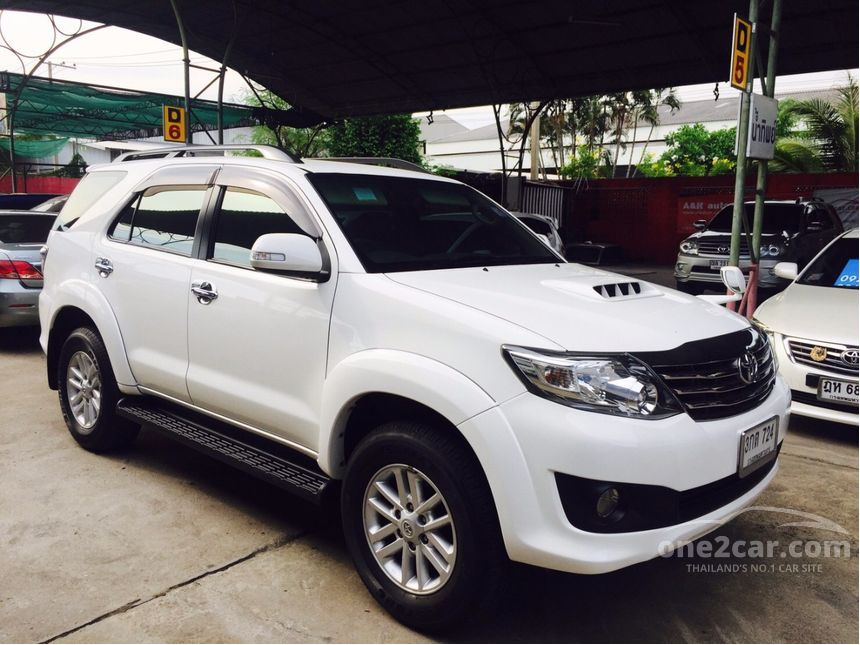pickup: (37, 143, 795, 630)
